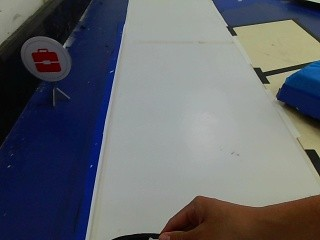company: (17, 35, 68, 81)
